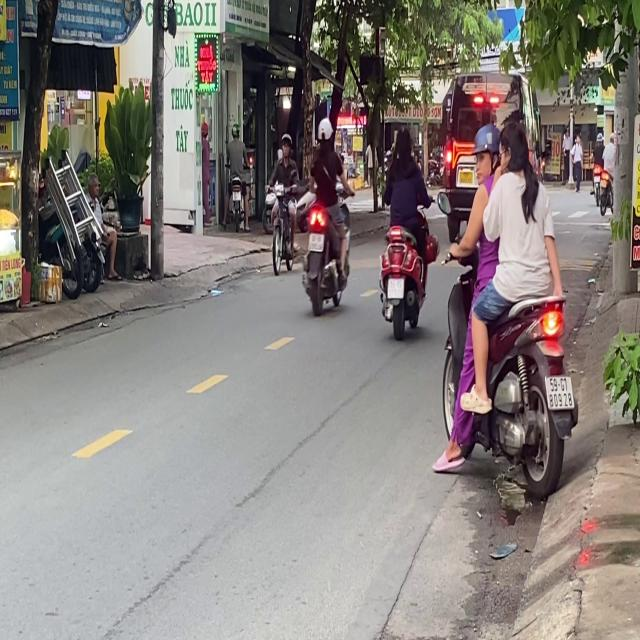helmet: (472, 122, 502, 180), (317, 116, 333, 146), (279, 132, 293, 160)
licenseplate: (436, 106, 579, 490), (375, 123, 434, 338), (301, 115, 352, 313), (265, 131, 300, 274)
motorcyclist: (500, 114, 532, 178), (393, 125, 414, 162)
nohelmet: (546, 375, 574, 407), (388, 278, 403, 298), (308, 233, 324, 251)
